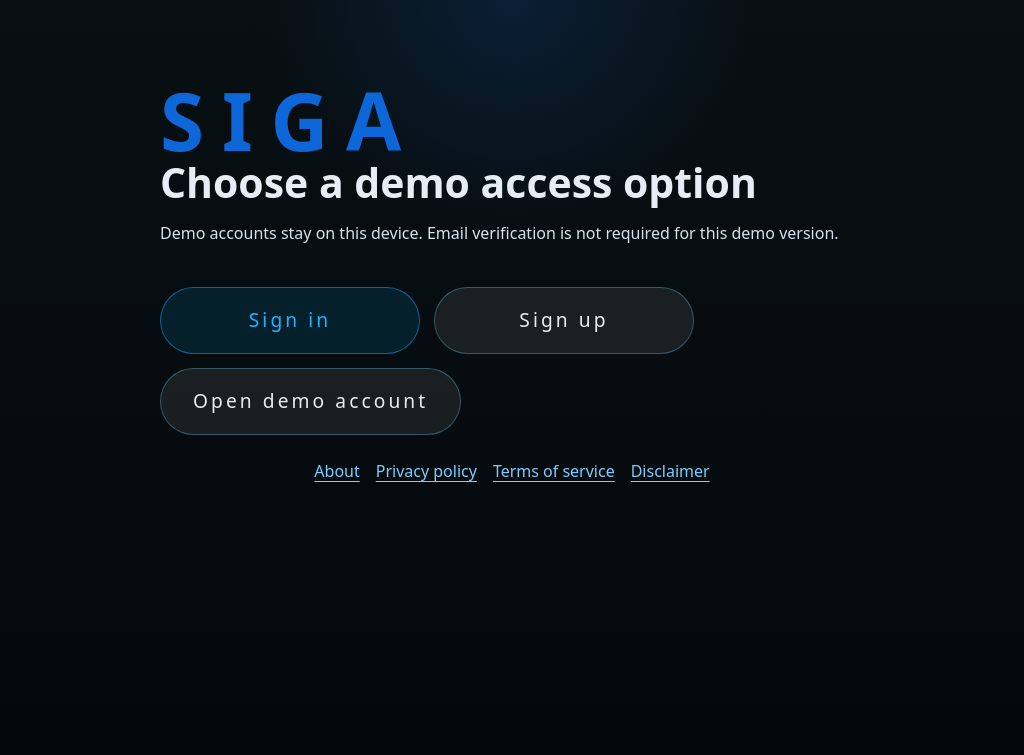
Test: MatcherApp › about page explains the current method from the app data
Step 1. Click the button "About" → {"x": 337, "y": 471}, box 312,455 -> 362,487
(page scrolled)
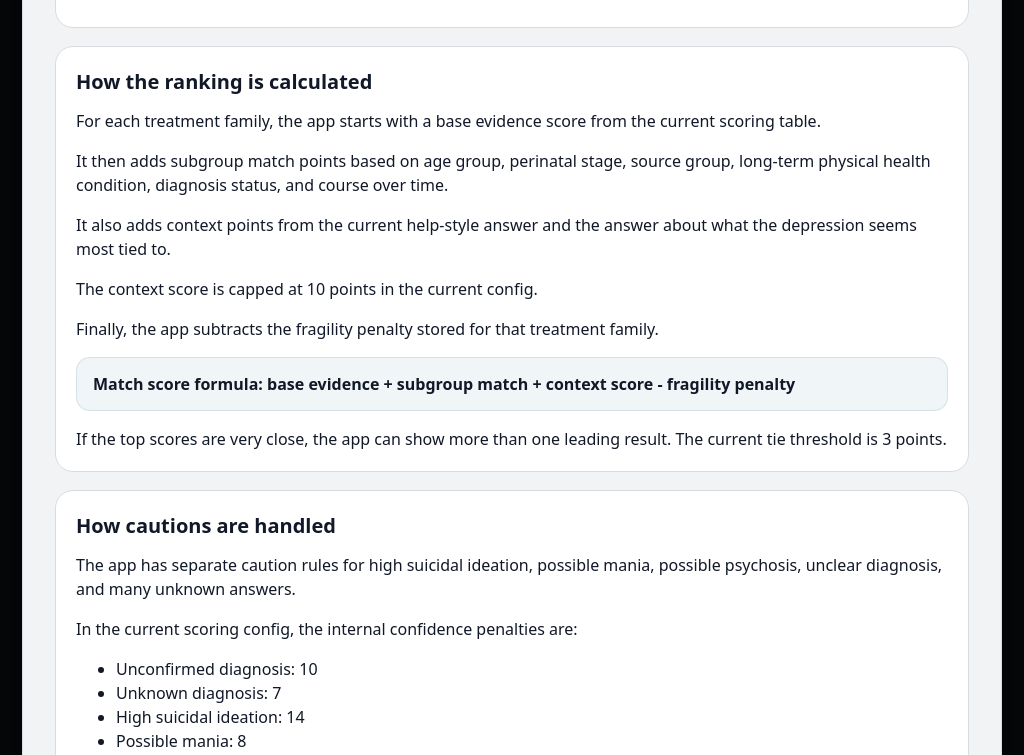
Now the text "the current tie threshold is 3 points" is shown, box 76,428 -> 947,450
Now the text "match score formula: base evidence + subgroup match + context score - fragility penalty" is shown, box 93,373 -> 795,395
